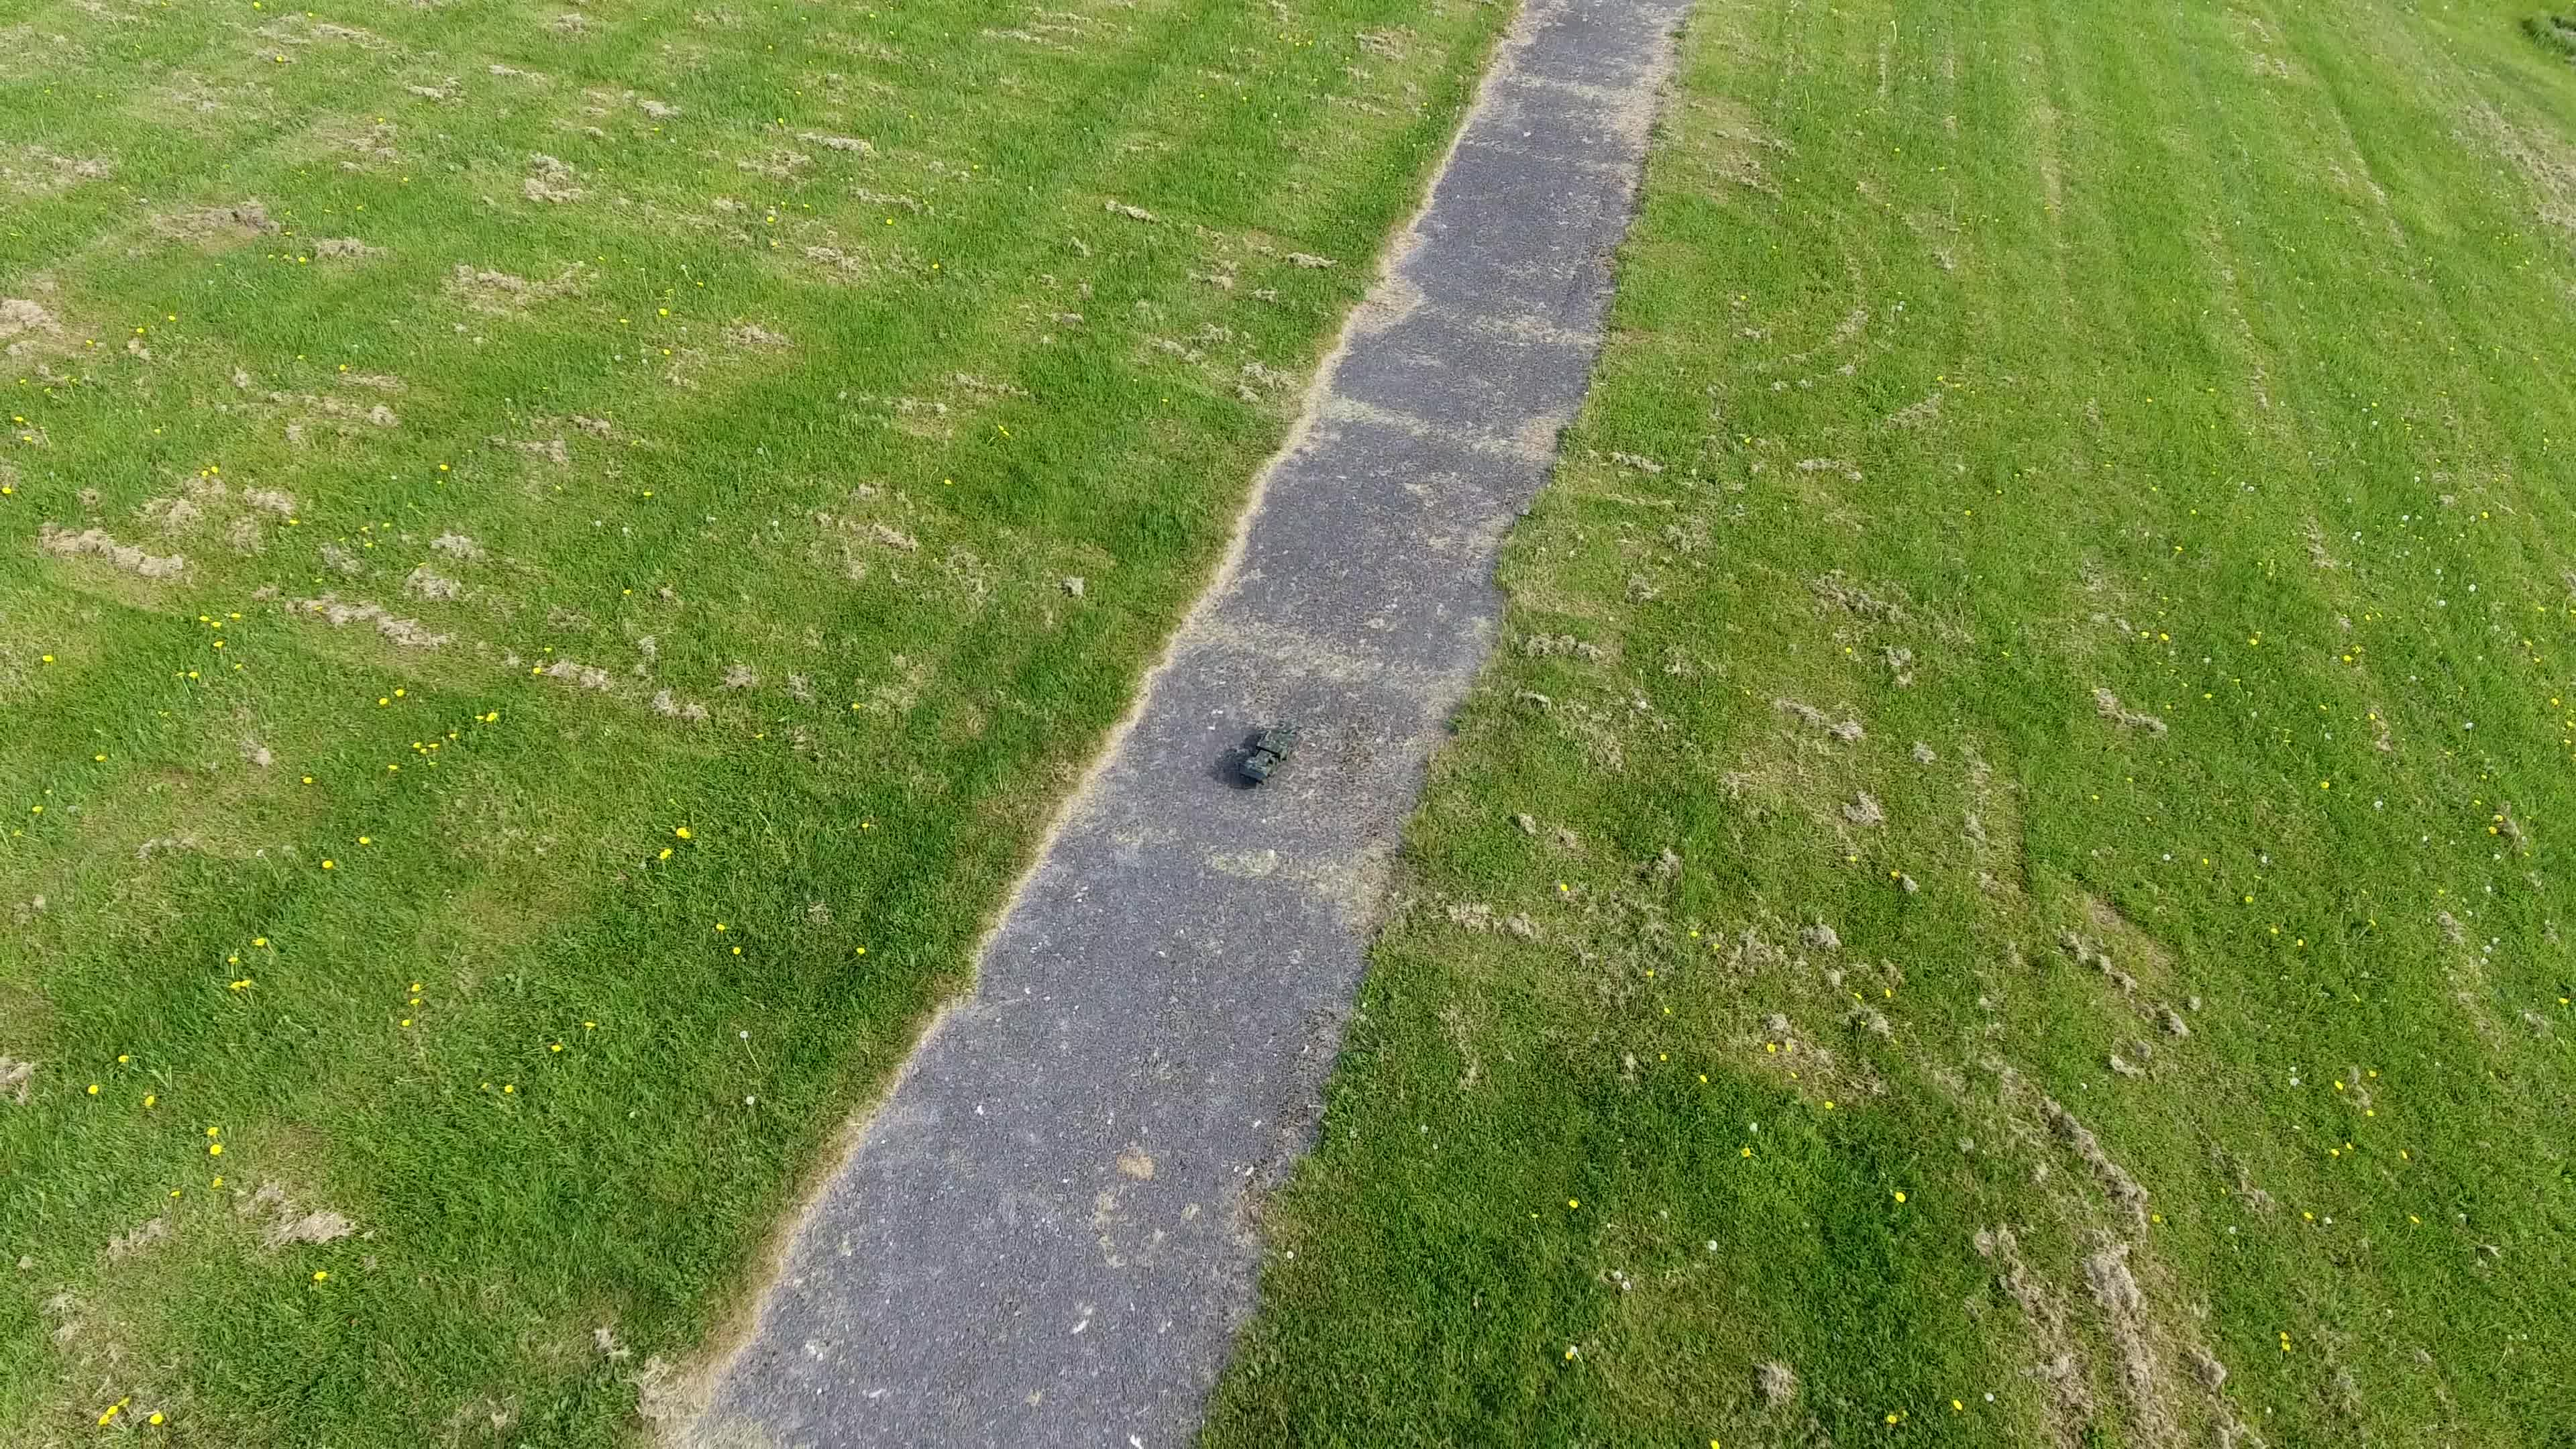transporter9: (1237, 725, 1297, 789)
